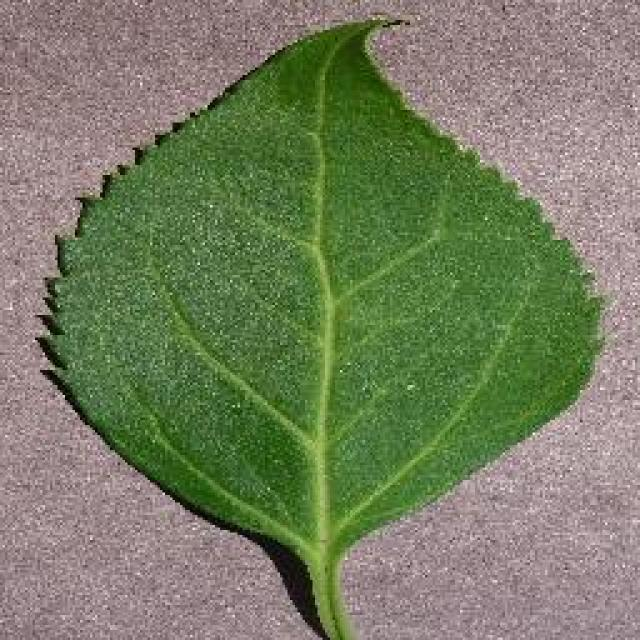Cherry___healthy: (25, 5, 617, 640)
